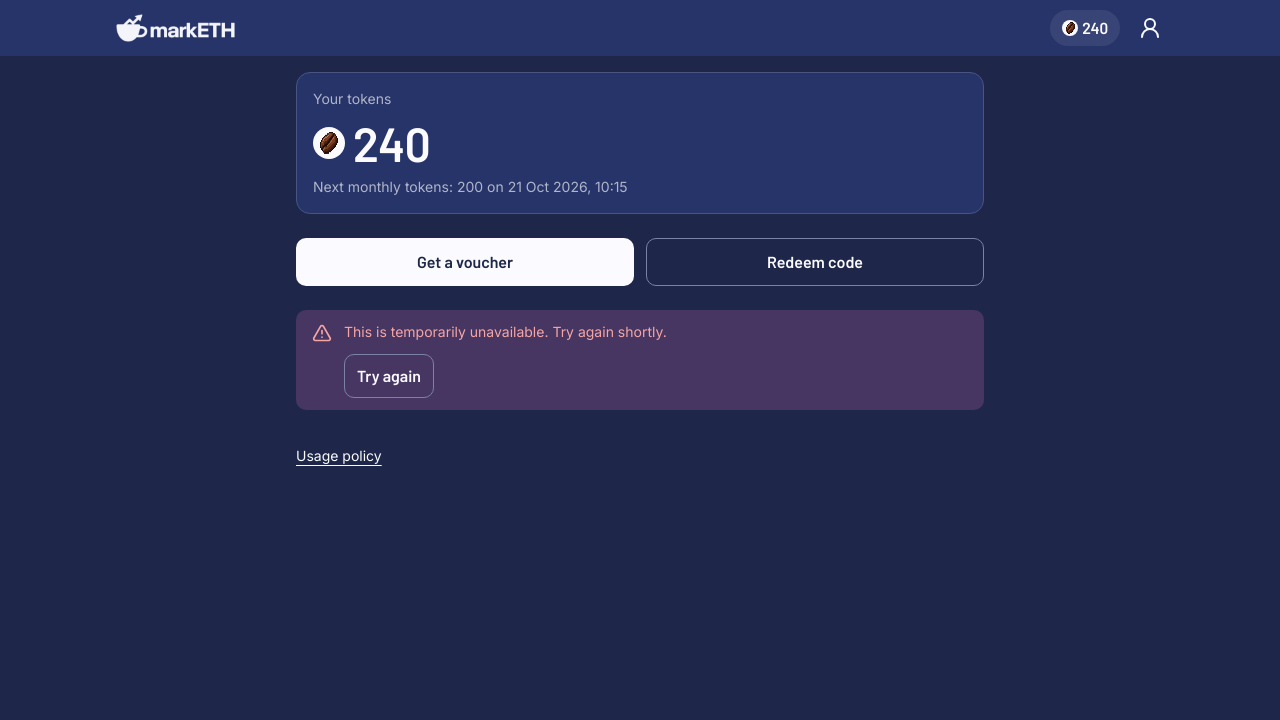
a Wallet that could not be read › shows one banner with the API's message and 'Try again', and keeps the balance
This screenshot has width=1280, height=720.
Expected: the message shows "This is temporarily unavailable. Try again shortly.", [344, 323, 667, 340]
Expected: the number of messages is 1, [296, 310, 984, 410]
Click the button "Try again" at (389, 376), box [344, 354, 434, 398]
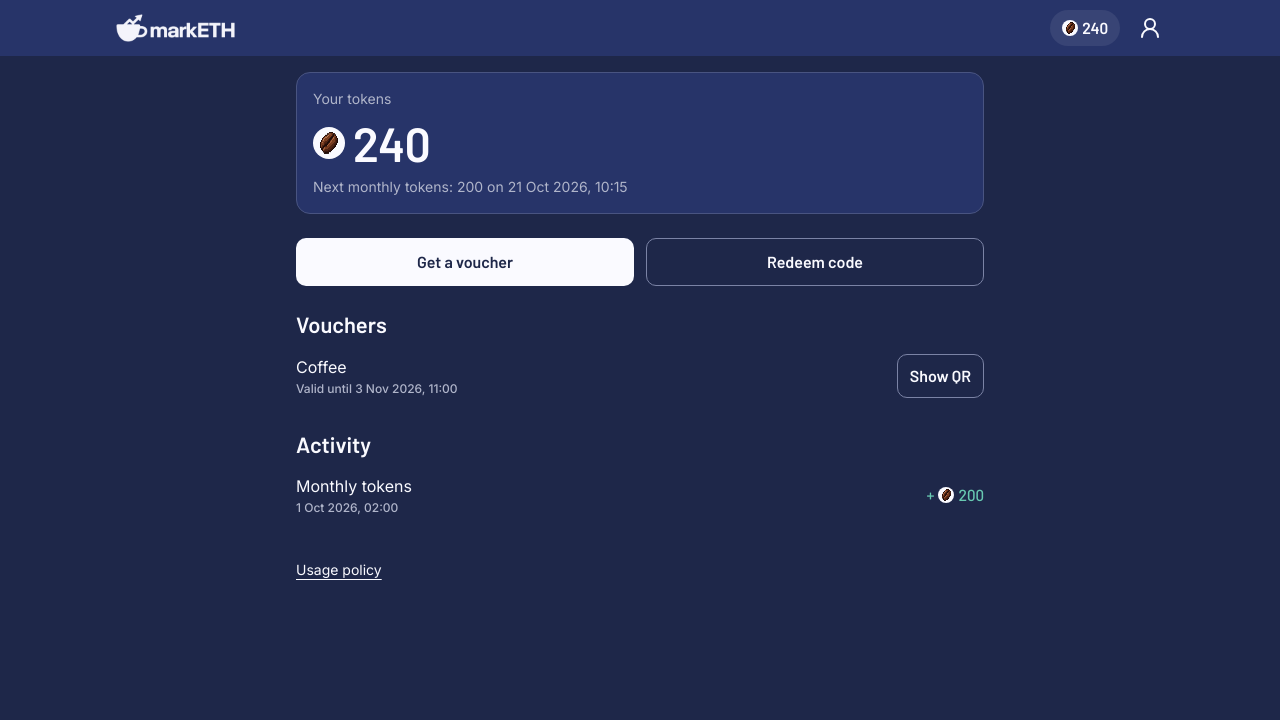
Now the button "Show QR" is shown, box [897, 354, 984, 398]
Now the text "Monthly tokens" is shown, box [296, 474, 412, 498]
Now the message "This is temporarily unavailable. Try again shortly. Try again" is gone
